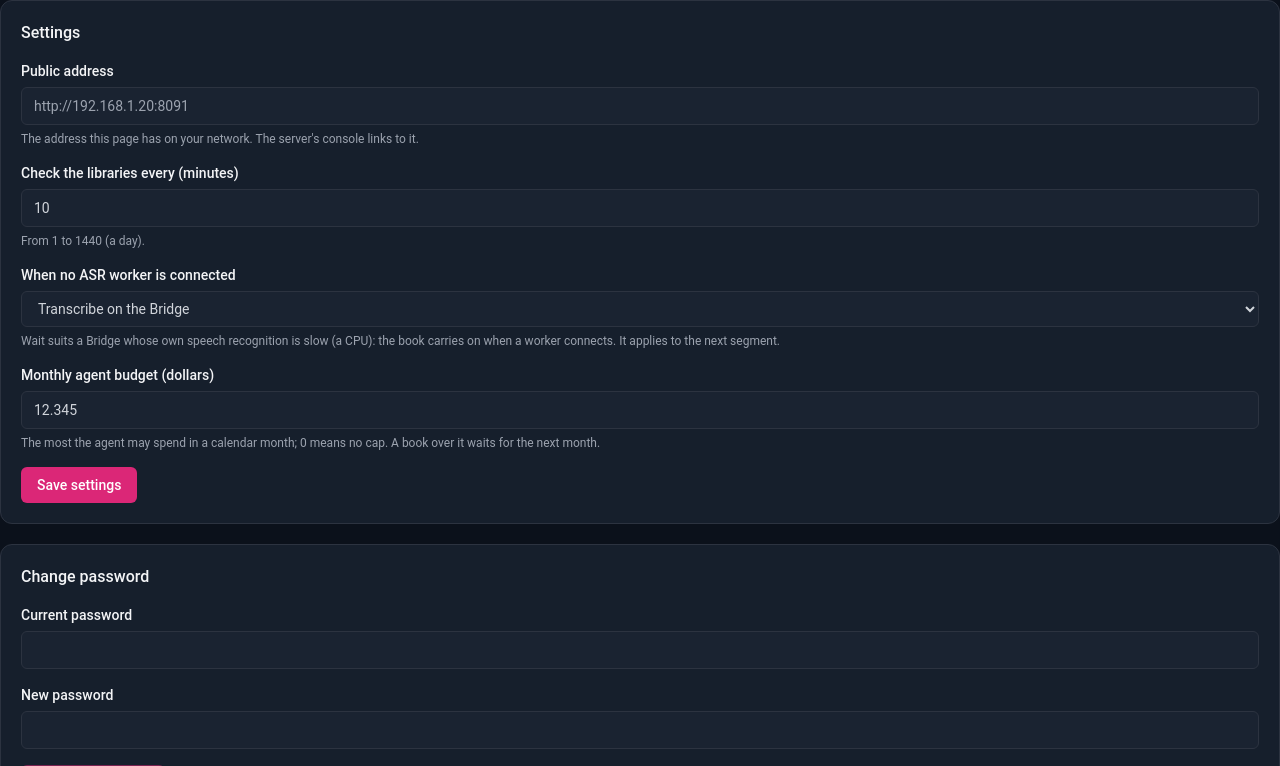
SettingsTab › saves an untouched budget as loaded, even one the field would refuse
Expected: the field labelled "Monthly agent budget (dollars)" holds "12.345", [21, 391, 1259, 429]
Click the button "Save settings": coordinates (79, 485) [21, 467, 137, 503]
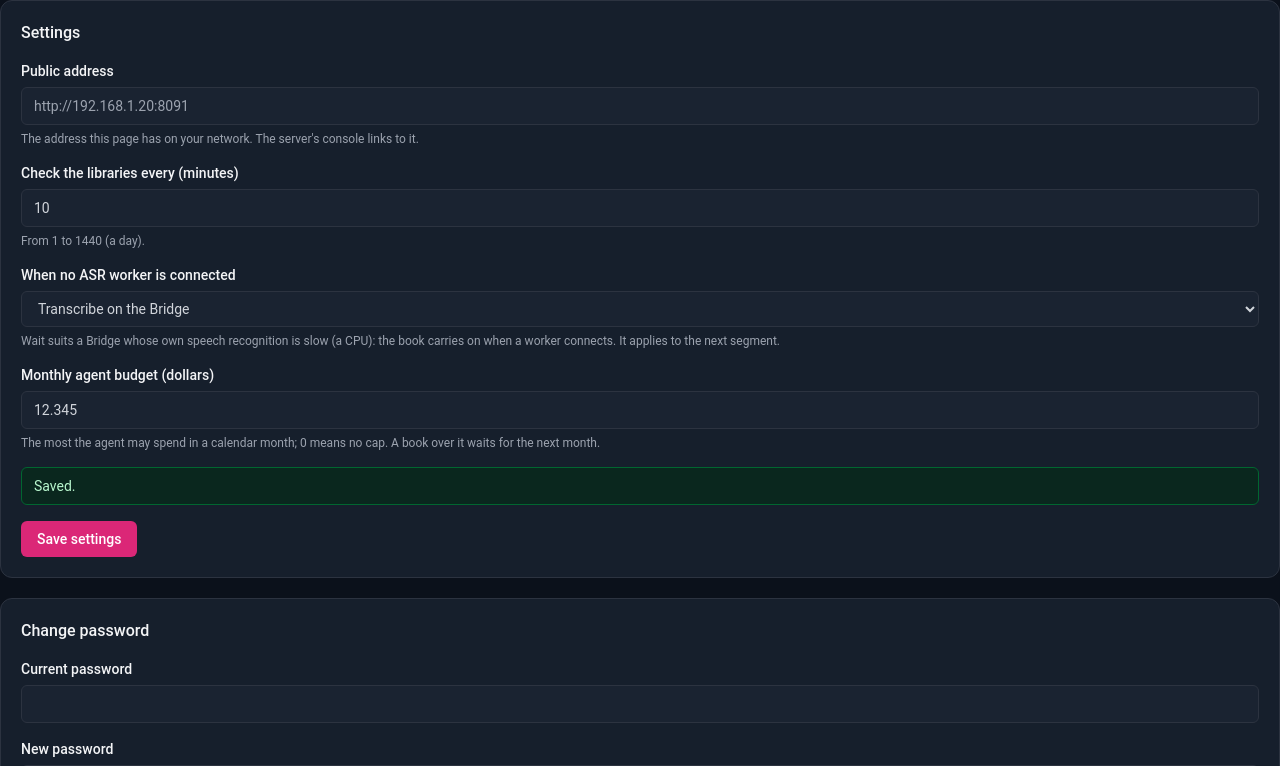
Now the text "Saved." is shown, box [21, 467, 1259, 505]
